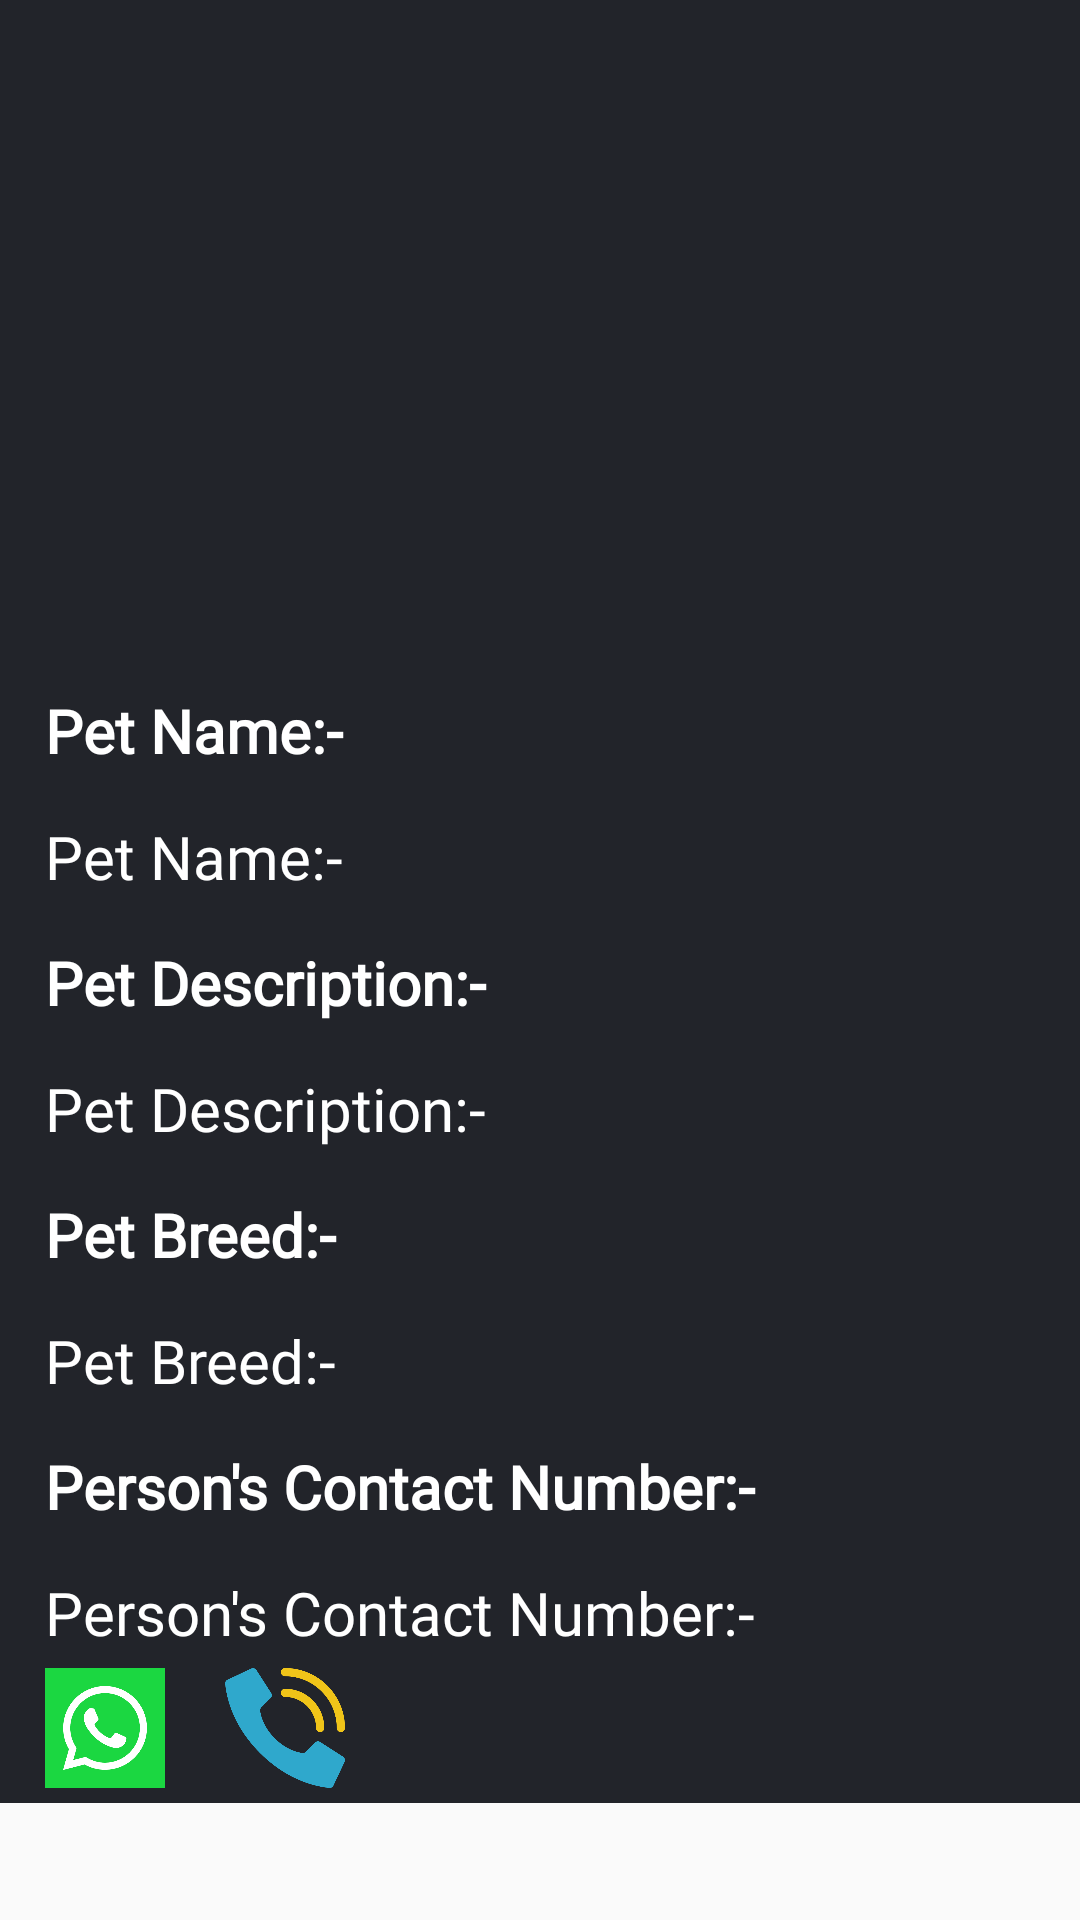

Icon click points for this 1080x1920 phone screenshot, format point (x, y):
call: point (285, 1728)
